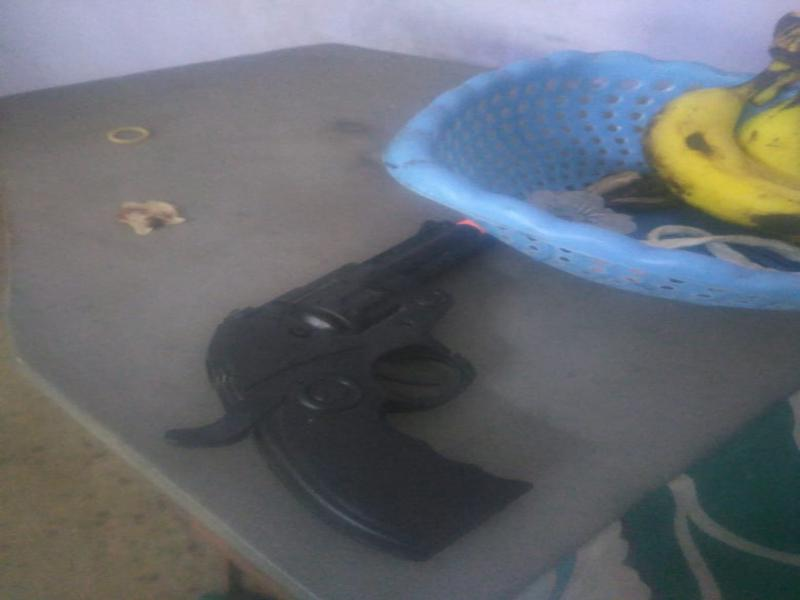gun: (157, 194, 562, 566)
